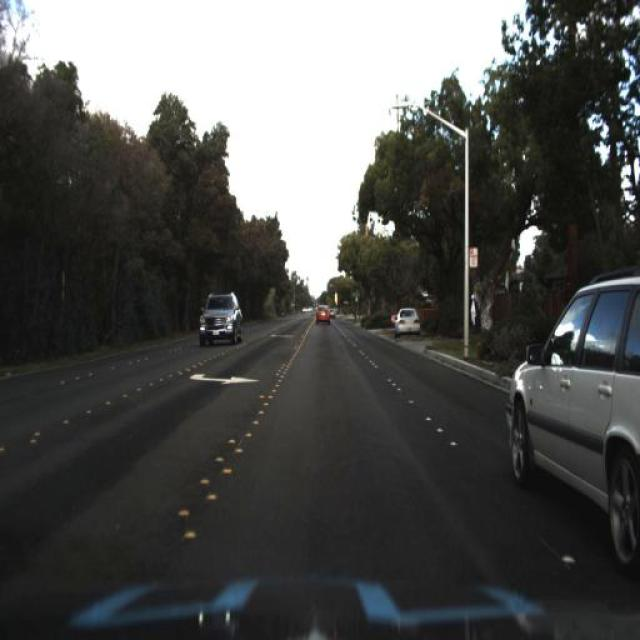car: (496, 254, 638, 572), (191, 282, 245, 354), (390, 302, 424, 341), (310, 293, 334, 328)
